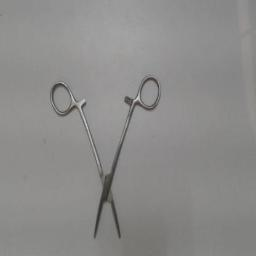Mayo Needle Holder: (48, 71, 164, 243)
